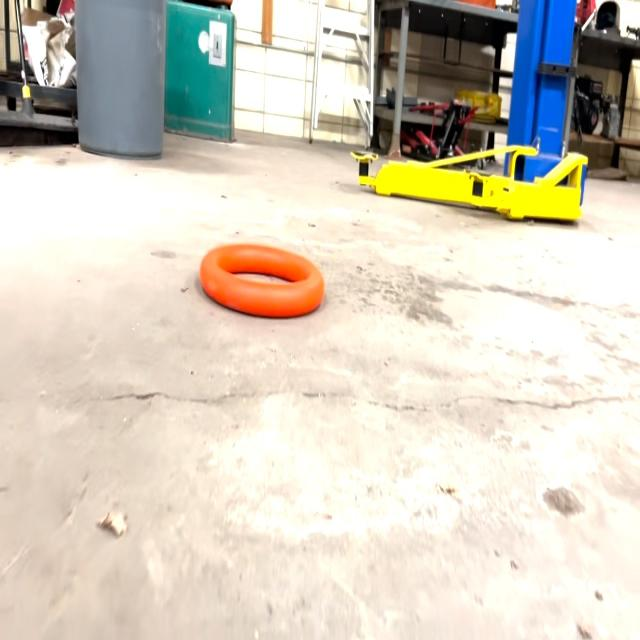note: (197, 240, 326, 317)
